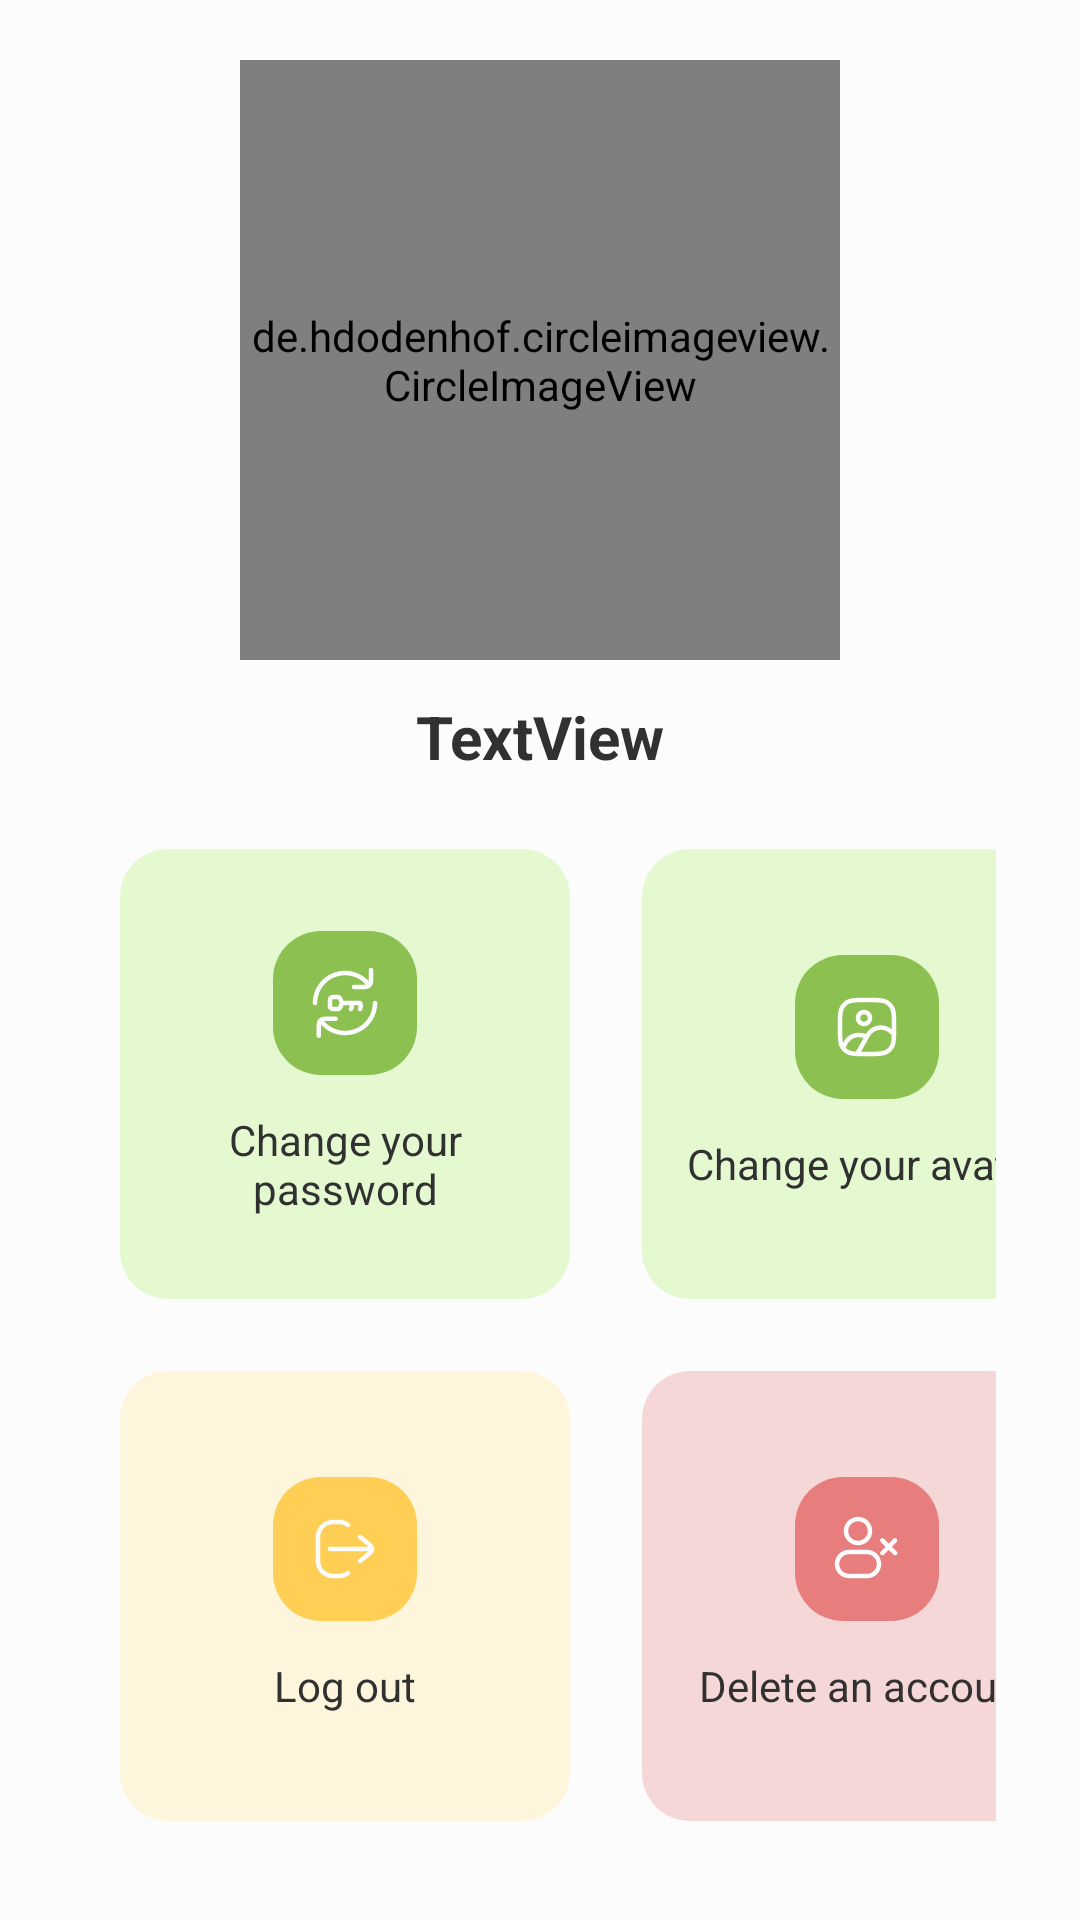

Named icons in this screenshot (1080*1920) and their bounding boxes, detection(x1, y1, x2, y2):
profile delete: detection(834, 1516, 898, 1579)
